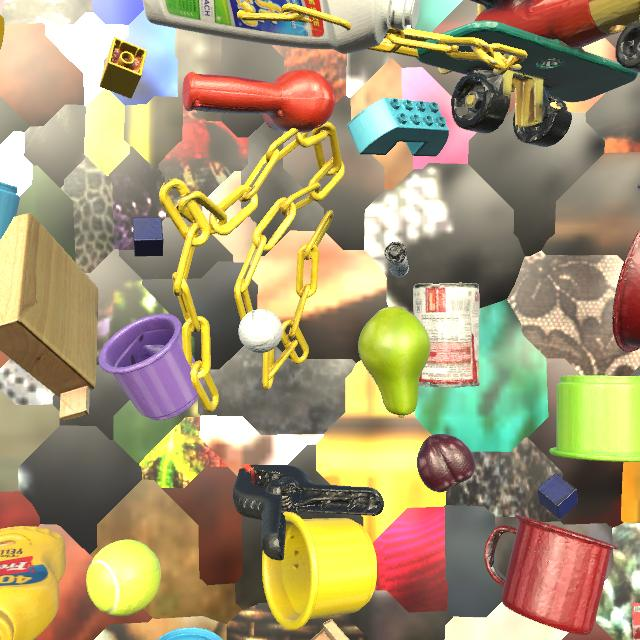ycb_005_tomato_soup_can: (413, 283, 480, 388)
ycb_006_mustard_bottle: (0, 526, 66, 640)
ycb_009_gelatin_box: (632, 602, 640, 640)
ycb_016_pear: (358, 307, 430, 418)
ycb_018_plum: (417, 434, 475, 492)
